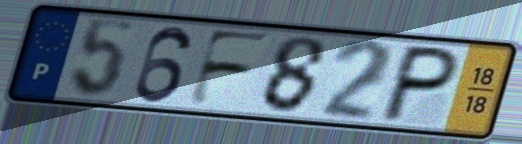2: (317, 37, 396, 124)
5: (69, 18, 138, 102)
6: (132, 23, 194, 105)
8: (261, 34, 328, 115)
F: (183, 27, 275, 109)
P: (374, 42, 465, 125)
